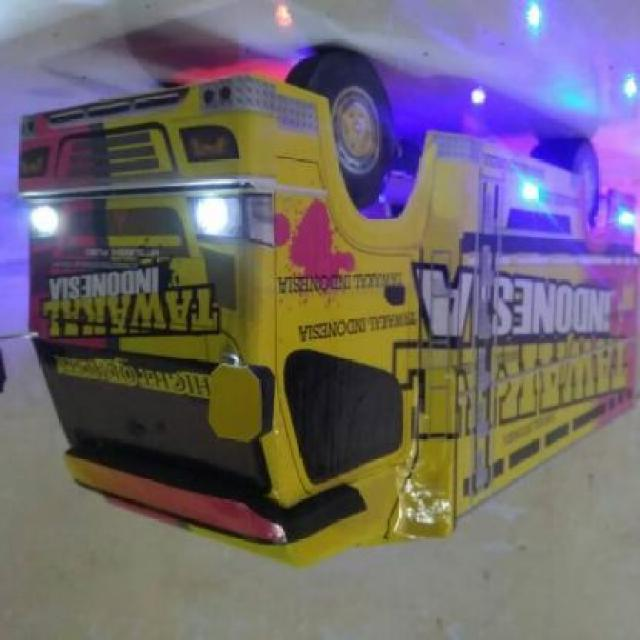truck: (19, 50, 640, 561)
